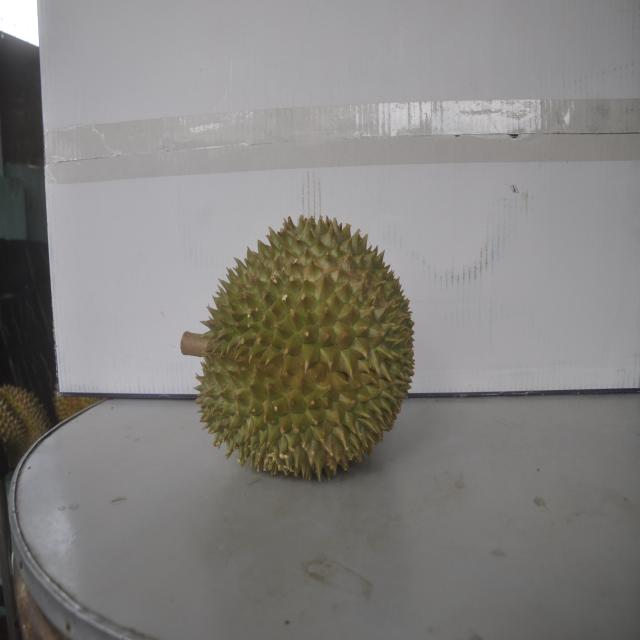mature: (193, 210, 415, 483), (1, 384, 53, 472)
